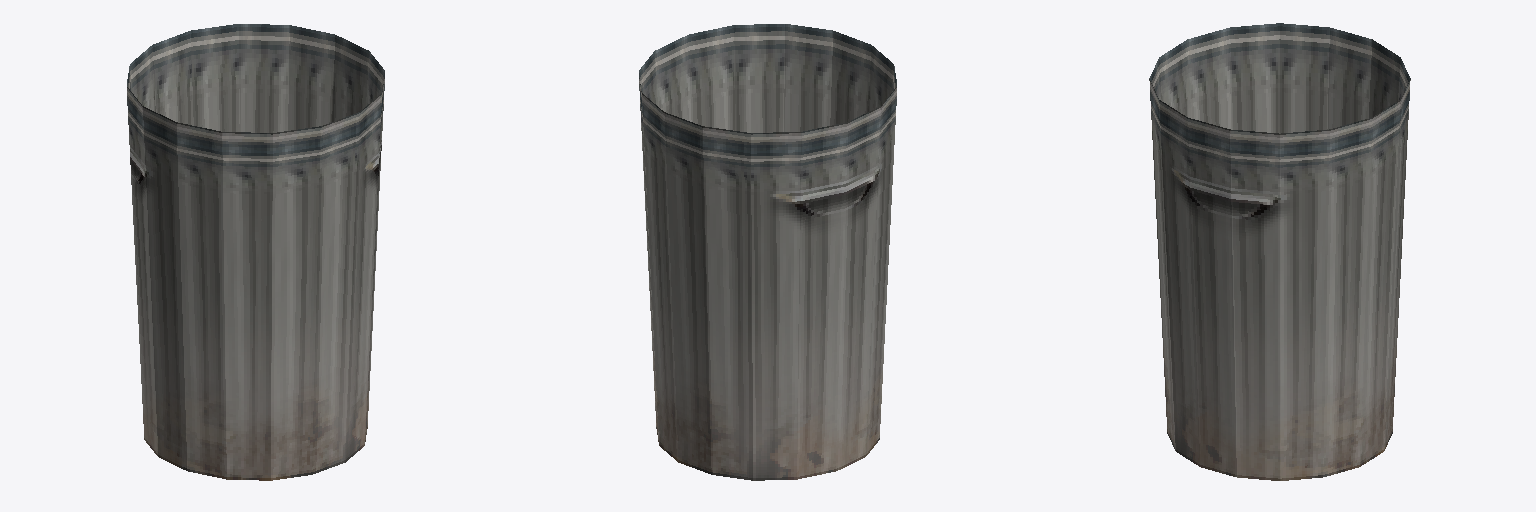
3 renders of one model, left to right at view 1: azimuth 30°, elevation 25°; view 2: azimuth 150°, elevation 25°; view 3: azimuth 270°, elevation 25°, orthographic.
Size of the model in its own units: 2 by 3 by 2.
1 materials, 1 textured.